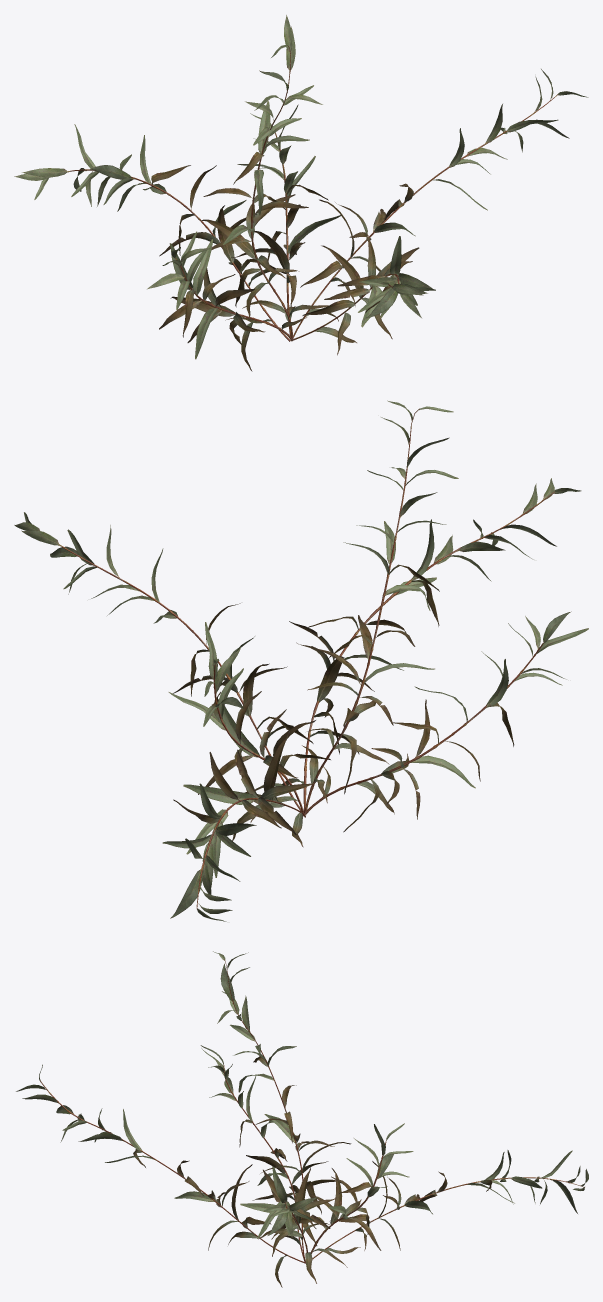
The model's file is shrub_02_2.glb.
3 renders of one model, top to bottom at view 1: azimuth 30°, elevation 25°; view 2: azimuth 150°, elevation 25°; view 3: azimuth 270°, elevation 25°, orthographic. The views are drawn at different scales.
Visible parts, largest first — view 1: shrub_02_c; view 2: shrub_02_c; view 3: shrub_02_c.
Boxes of the visible parts, x1,y1,x2,y2 form: shrub_02_c: (14,15,588,371); shrub_02_c: (14,400,588,921); shrub_02_c: (16,951,588,1287).
Size of the model in its own units: 1.77 by 1.31 by 2.29.
Materials: 1 (1 with a texture image).
